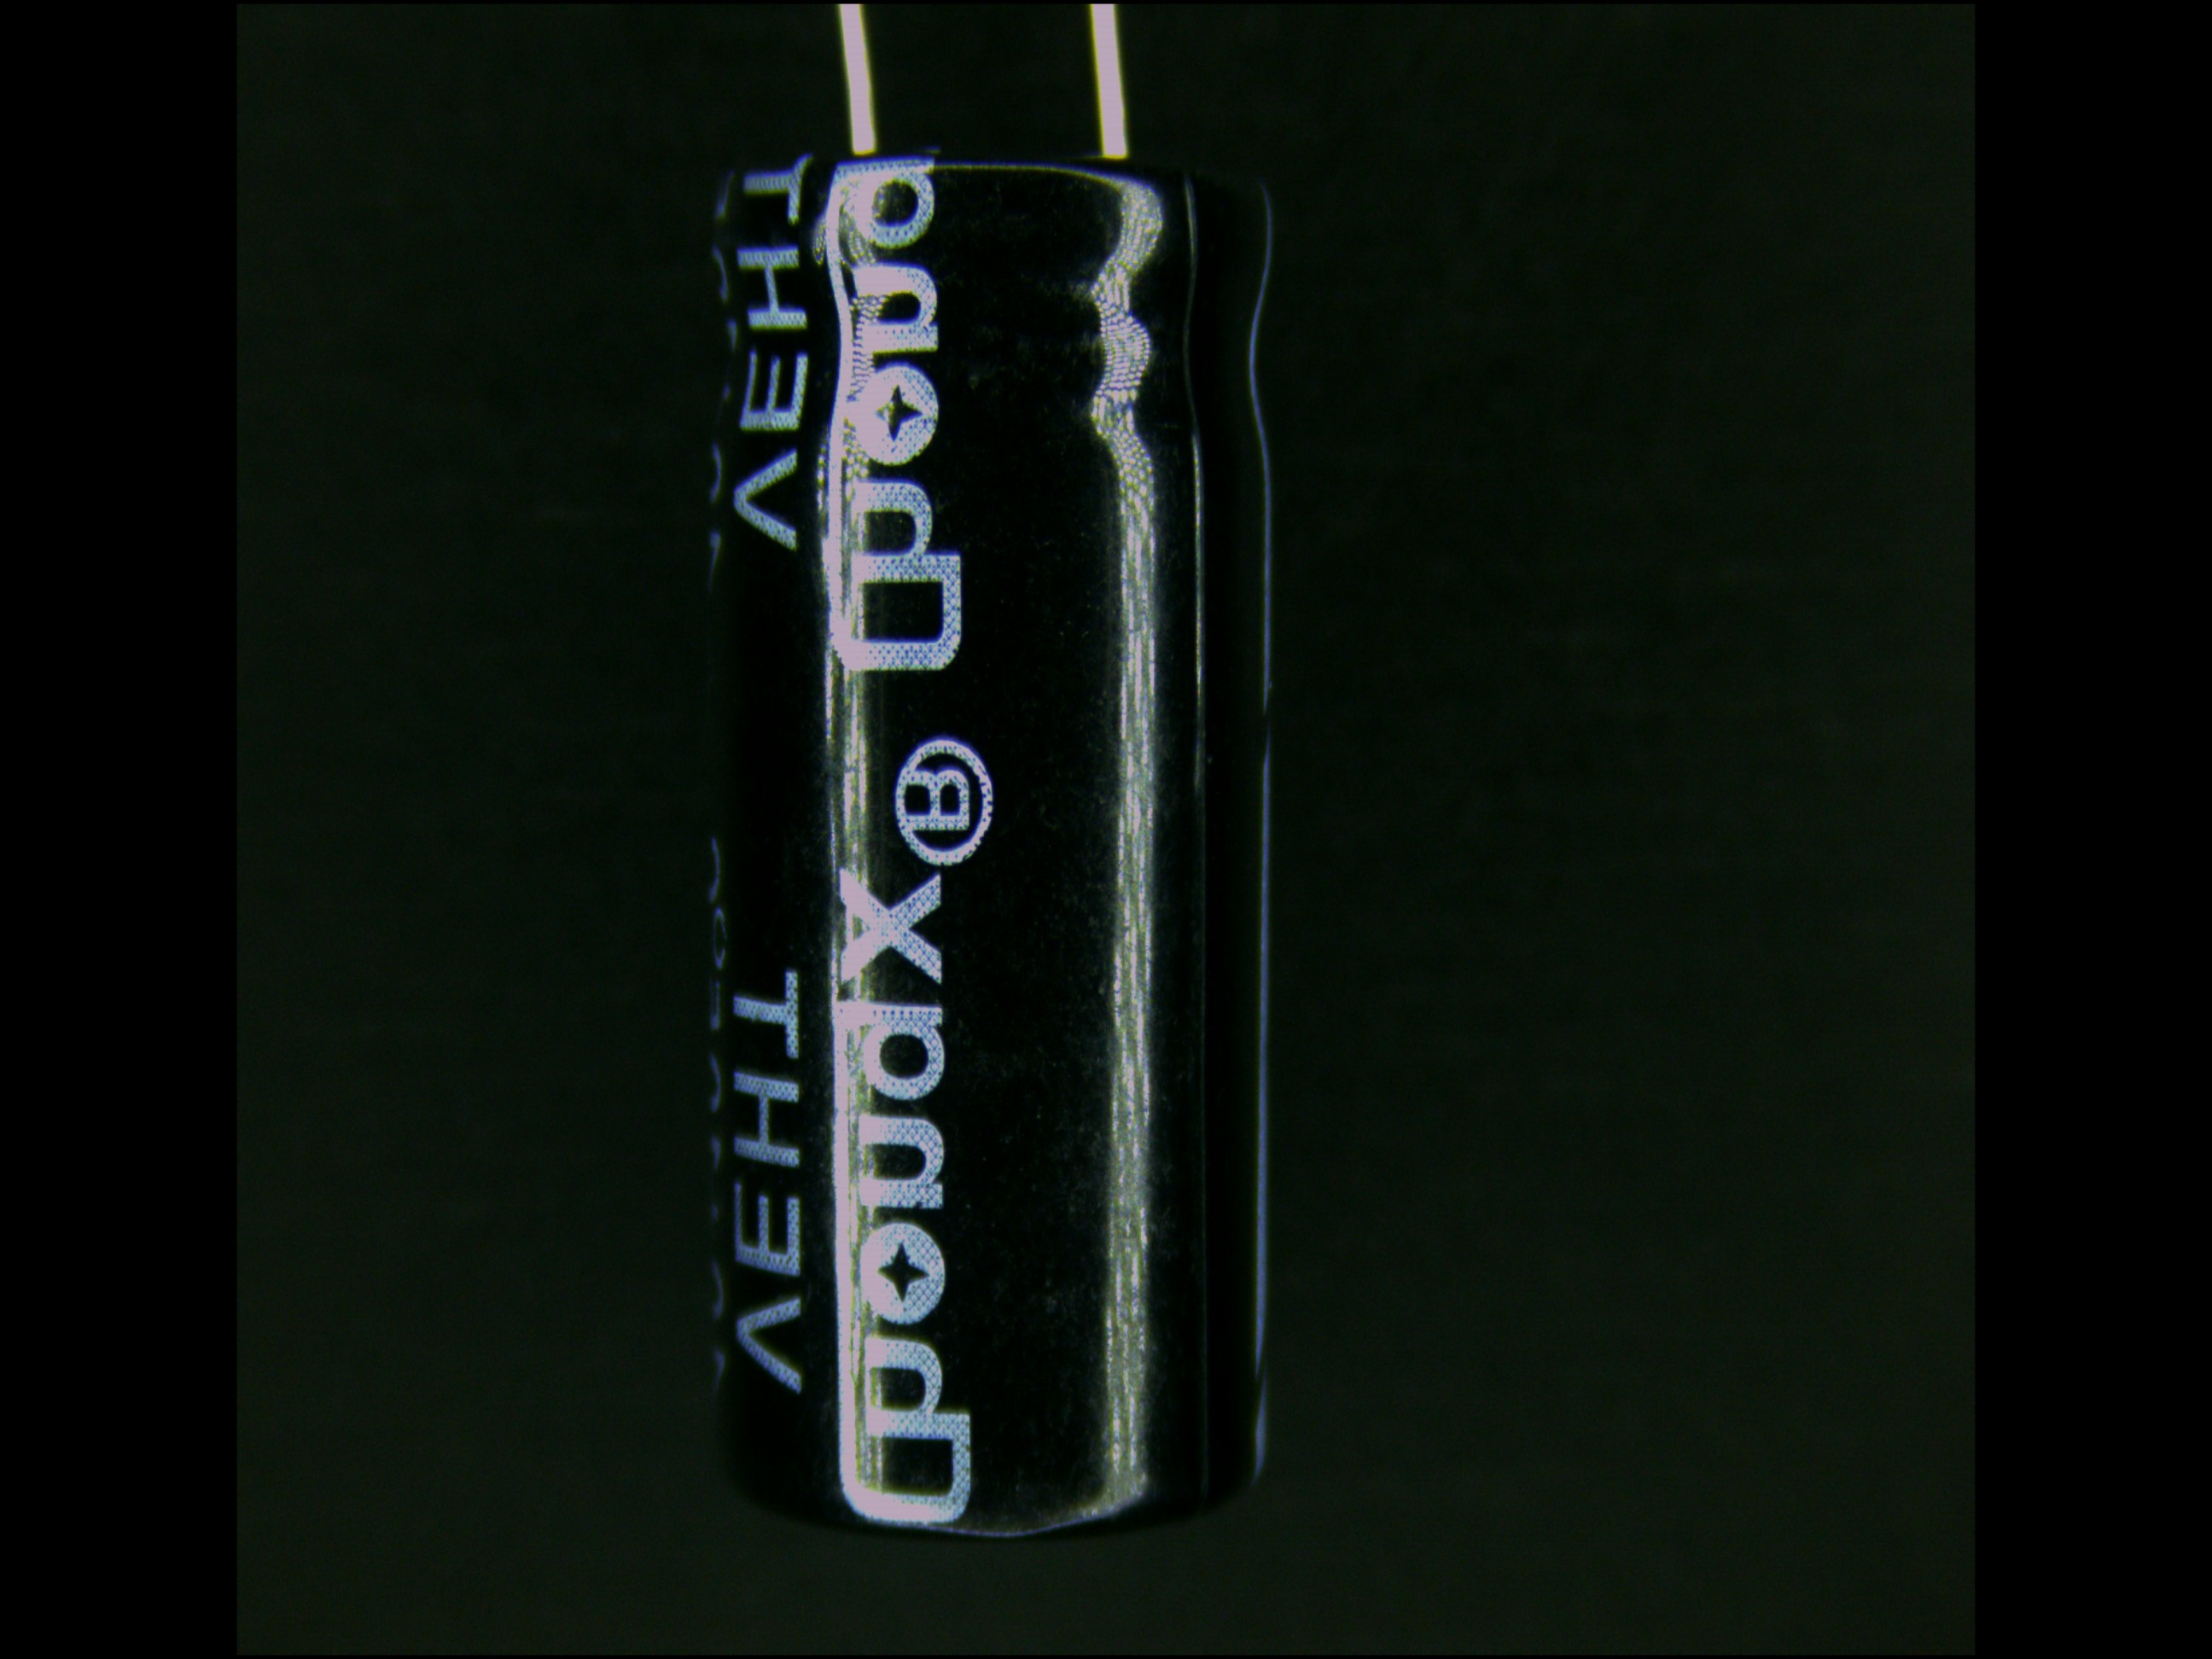c3: (686, 129, 1285, 1549)
